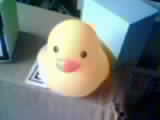duck: (36, 20, 112, 88)
